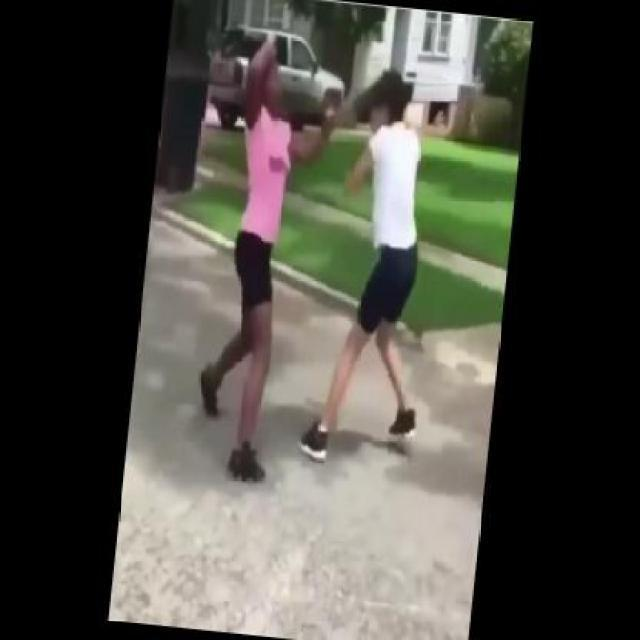fight: (199, 30, 453, 502)
